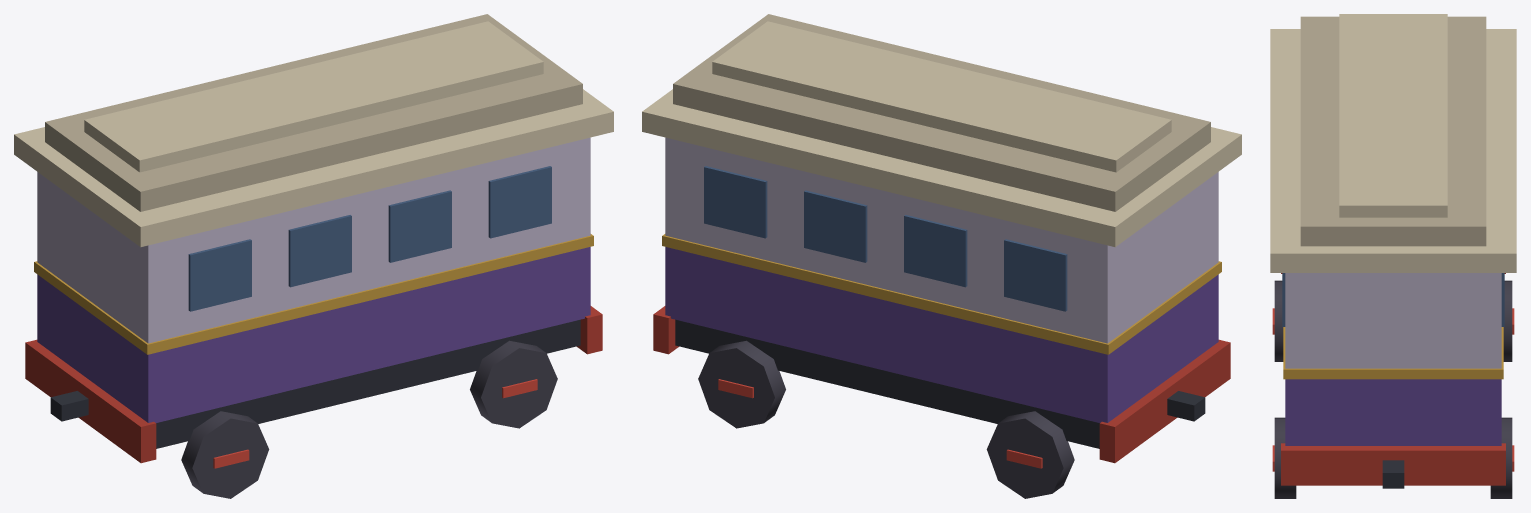
File: car_03.glb
3 renders of one model, left to right at view 1: azimuth 30°, elevation 25°; view 2: azimuth 150°, elevation 25°; view 3: azimuth 270°, elevation 25°, orthographic. The views are drawn at different scales.
Visible parts, largest first — view 1: car_03, Wheel3, Wheel1; view 2: car_03, Wheel2, Wheel0; view 3: car_03, Wheel2, Wheel3, Wheel0, Wheel1.
Part boxes in pixels (x1,y1,x2,y2): car_03: [14, 14, 613, 463]; Wheel3: [470, 340, 557, 428]; Wheel1: [181, 411, 269, 498]; car_03: [642, 14, 1241, 463]; Wheel2: [698, 340, 785, 428]; Wheel0: [986, 411, 1074, 498]; car_03: [1270, 14, 1516, 488]; Wheel2: [1490, 417, 1514, 498]; Wheel3: [1272, 417, 1296, 498]; Wheel0: [1503, 280, 1514, 361]; Wheel1: [1272, 280, 1283, 361].
Size of the model in its own units: 2.68 by 1.63 by 1.14.
